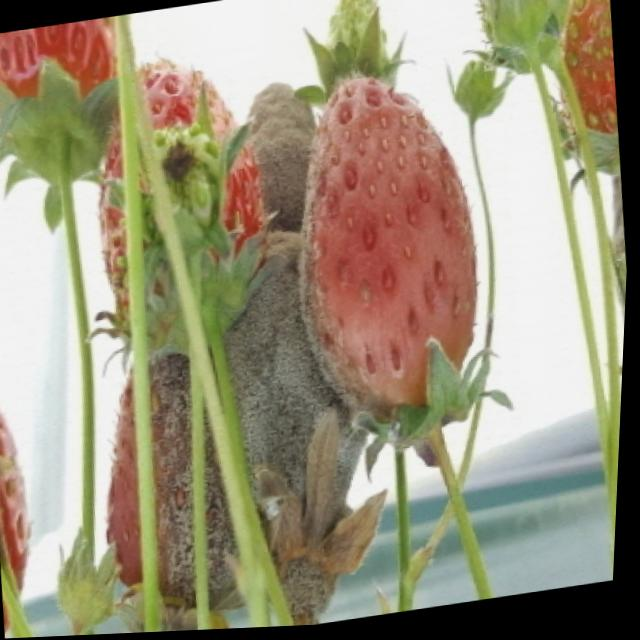Gray Mold: (297, 82, 479, 480), (224, 244, 389, 629), (110, 356, 243, 635), (231, 83, 316, 270)
